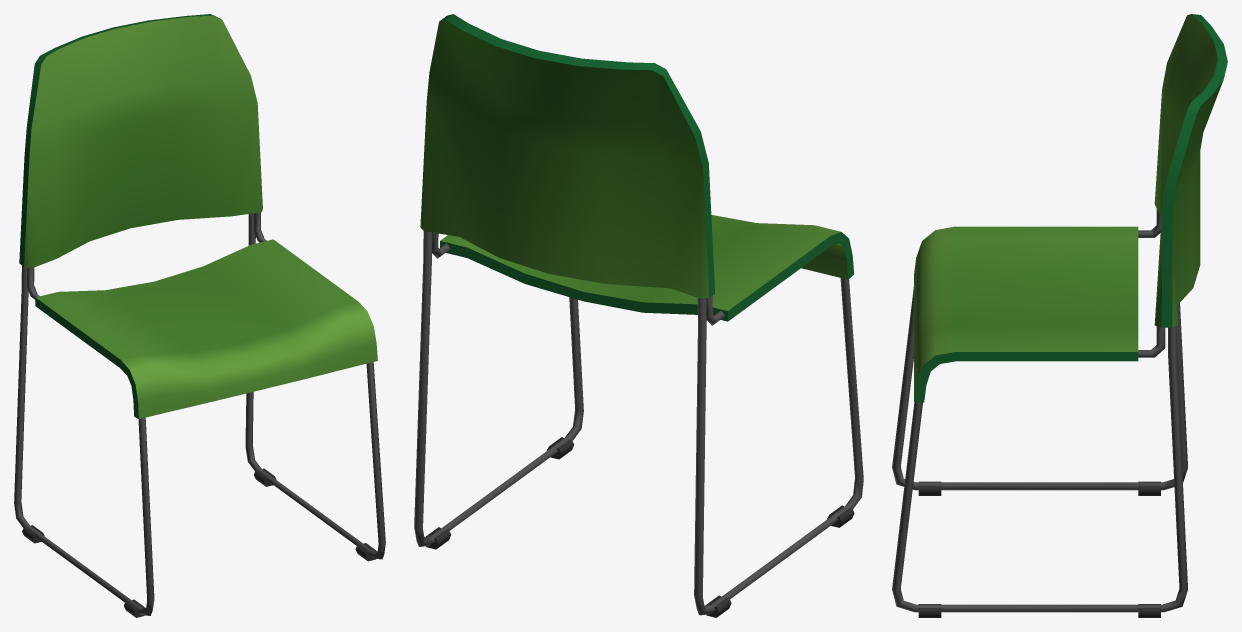
Rendered from CR_caf_Chair_001.FBX.
3 views of the same model, side by side, from view 1: azimuth 30°, elevation 25°; view 2: azimuth 150°, elevation 25°; view 3: azimuth 270°, elevation 25° (orthographic). The views are drawn at different scales.
Parts seen in each view (by area): view 1: CR_caf_Chair_001; view 2: CR_caf_Chair_001; view 3: CR_caf_Chair_001.
Part boxes in pixels (x1=…): CR_caf_Chair_001: x1=14, y1=14, x2=385, y2=617; CR_caf_Chair_001: x1=414, y1=14, x2=863, y2=617; CR_caf_Chair_001: x1=892, y1=14, x2=1227, y2=617.
Size of the model in its own units: 38.62 by 69.58 by 42.63.
